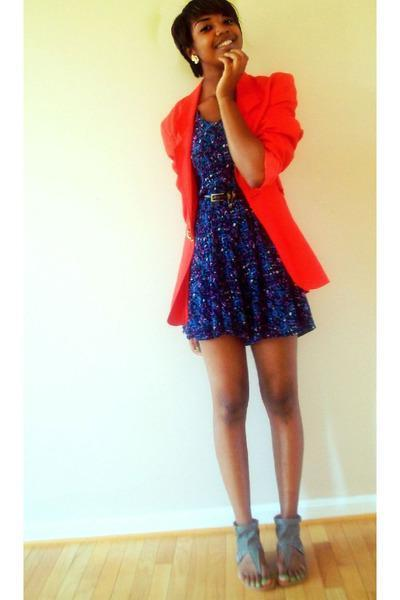dress: (183, 98, 316, 344)
jacket: (159, 68, 334, 333)
